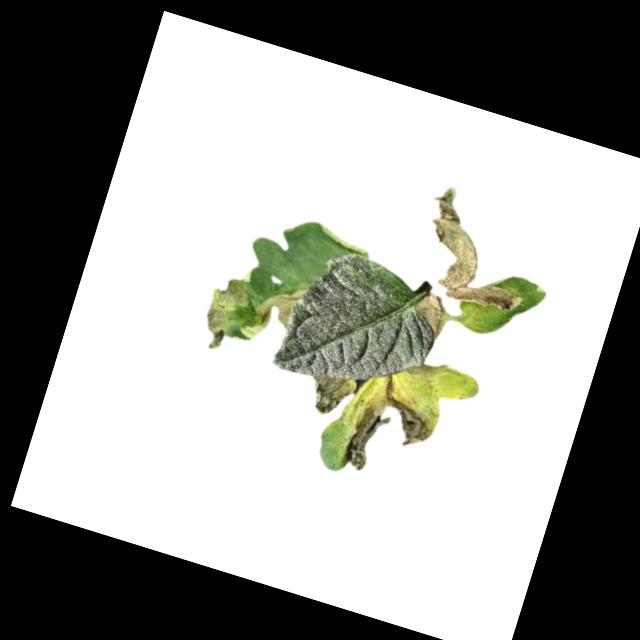Late_blight: (409, 181, 549, 320), (332, 379, 448, 493), (195, 261, 264, 359), (244, 274, 306, 350), (302, 367, 358, 423), (403, 353, 464, 396), (407, 289, 449, 339)
